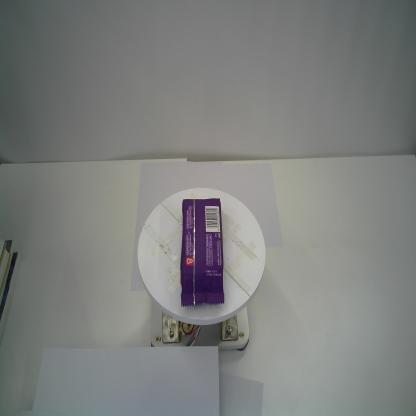Dessert: (178, 194, 226, 311)
